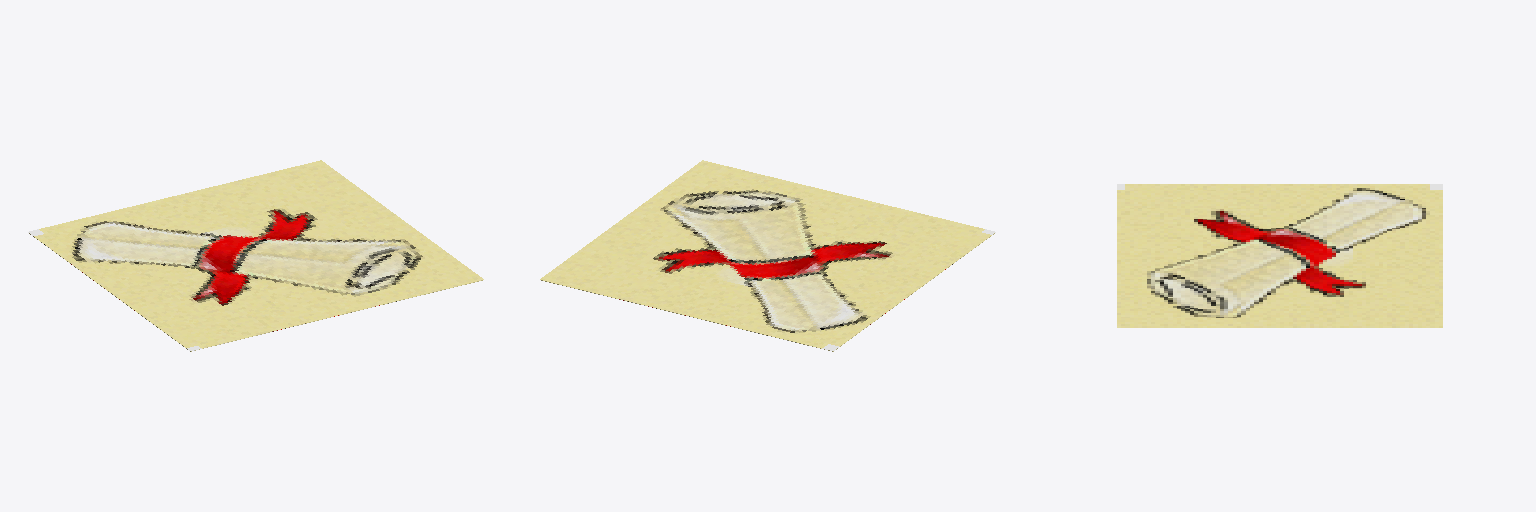
3 renders of one model, left to right at view 1: azimuth 30°, elevation 25°; view 2: azimuth 150°, elevation 25°; view 3: azimuth 270°, elevation 25°, orthographic.
Parts seen in each view (by area): view 1: Box001; view 2: Box001; view 3: Box001.
Part boxes in pixels (bbox=[...]): Box001: bbox=[28, 160, 483, 351]; Box001: bbox=[540, 160, 995, 351]; Box001: bbox=[1117, 184, 1442, 327].
Size of the model in its own units: 79 by 0.1 by 76.
1 materials, 1 textured.